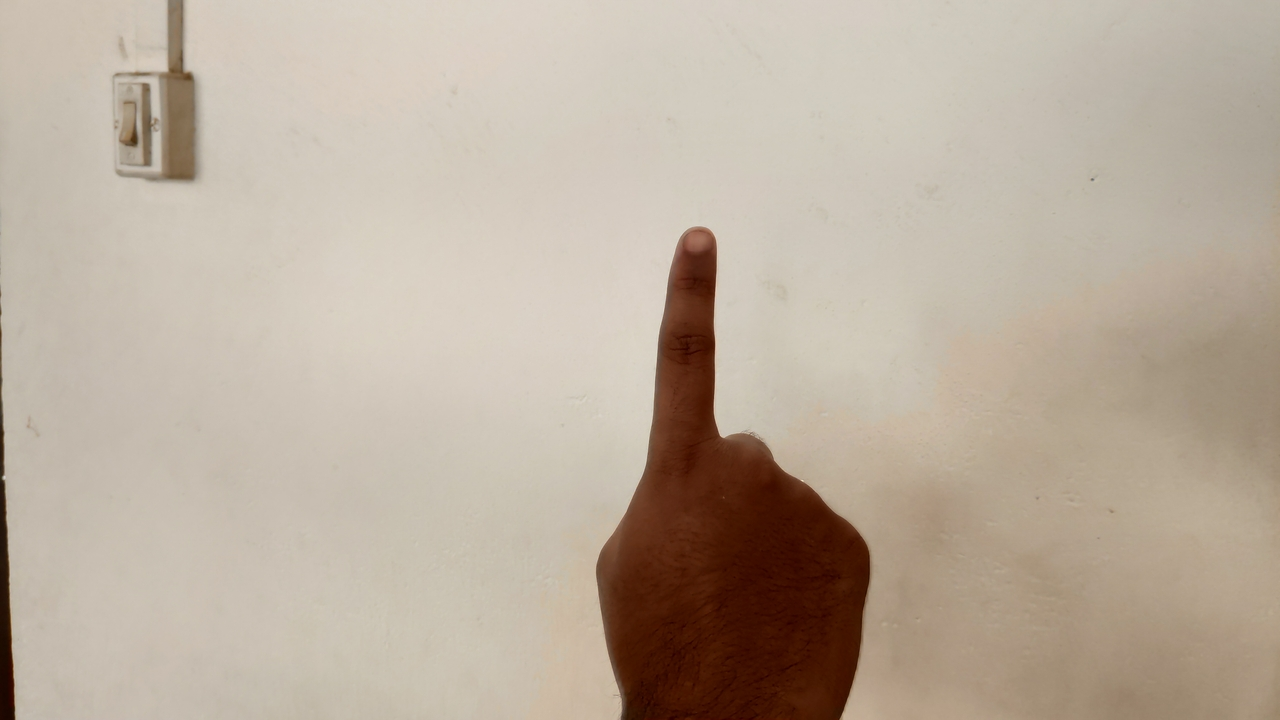fingertip: (668, 218, 722, 274)
